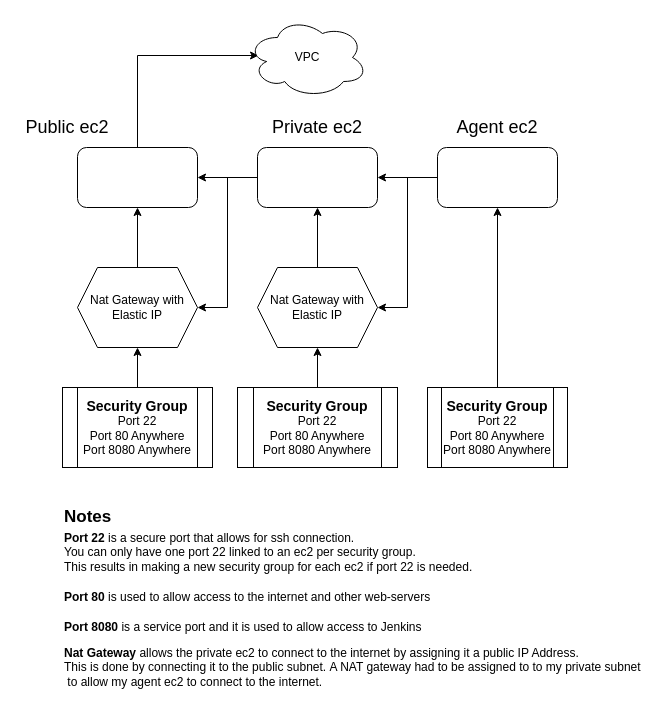
The diagram is 669 pixels wide and 710 high, and some of its shapes have lost their labels. Here are the shapes that lost their labels. From the top down, the box of each, then its label:
(76, 146, 198, 208): Jumphost
(256, 146, 378, 208): Private01
(436, 146, 558, 208): Jenkins Agent
